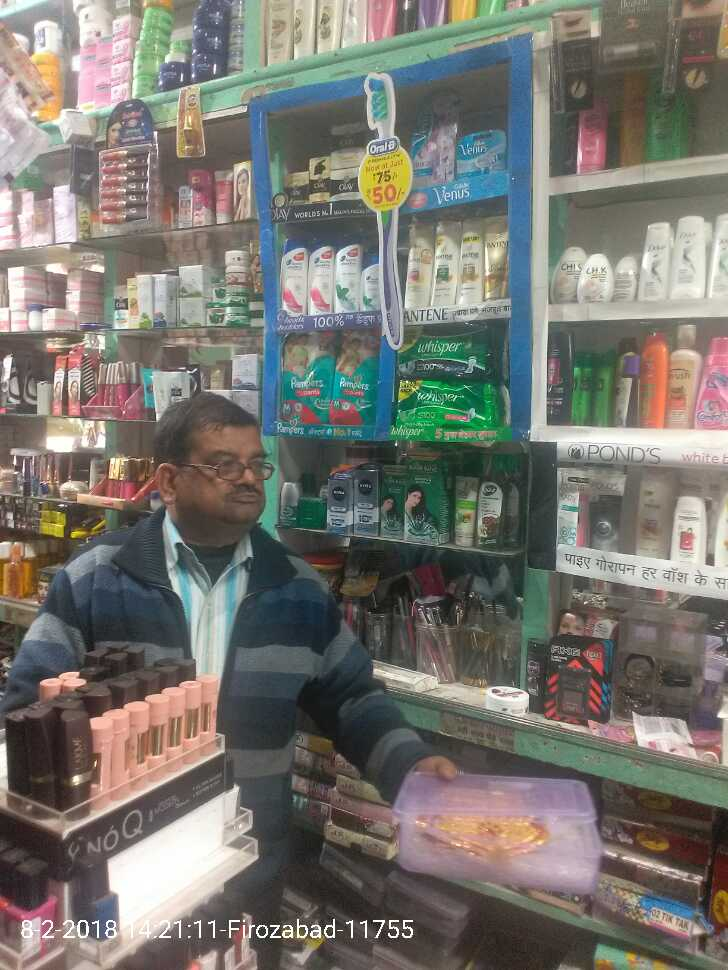venus: (411, 93, 455, 175), (455, 127, 504, 175)
